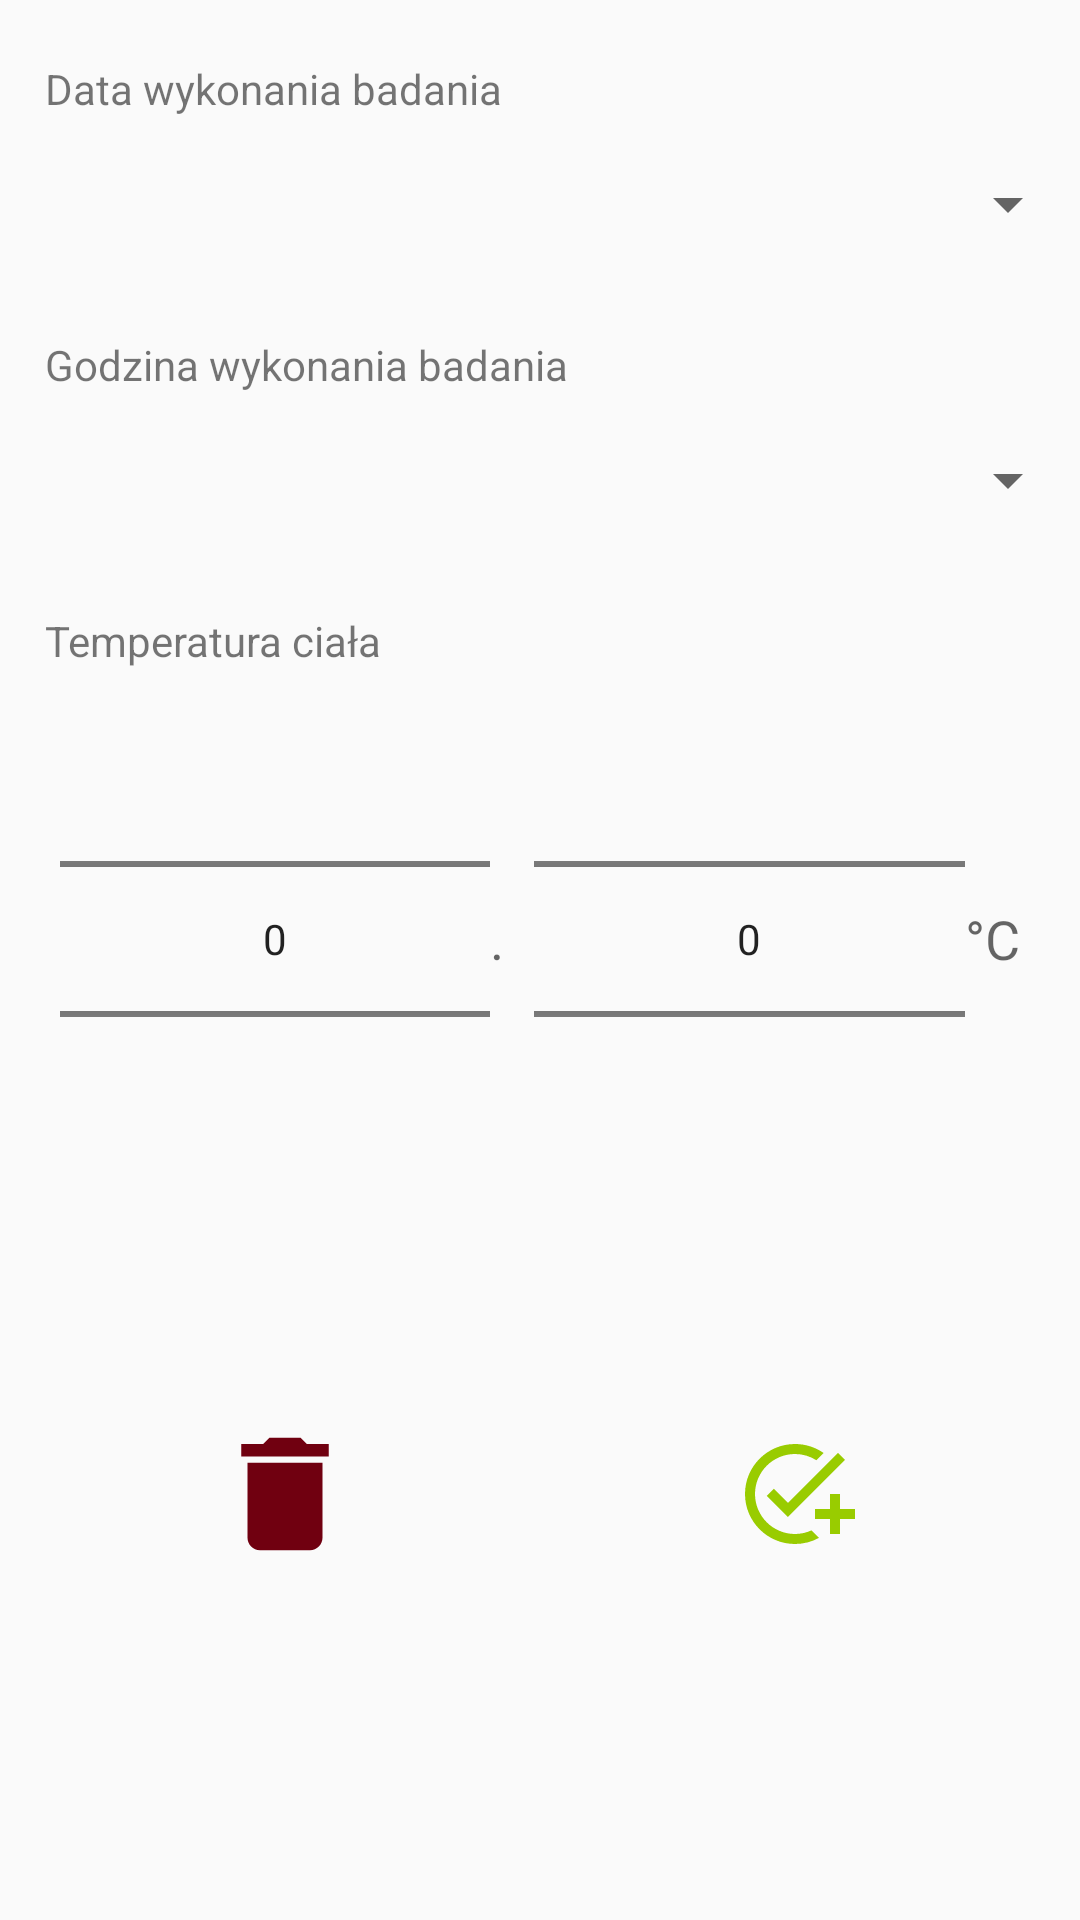

Where icons sit on this 1080 x 1920 app screen, as bbox(x1, y1, x2, y2):
add result: bbox(745, 1444, 855, 1544)
delete: bbox(241, 1437, 329, 1551)
